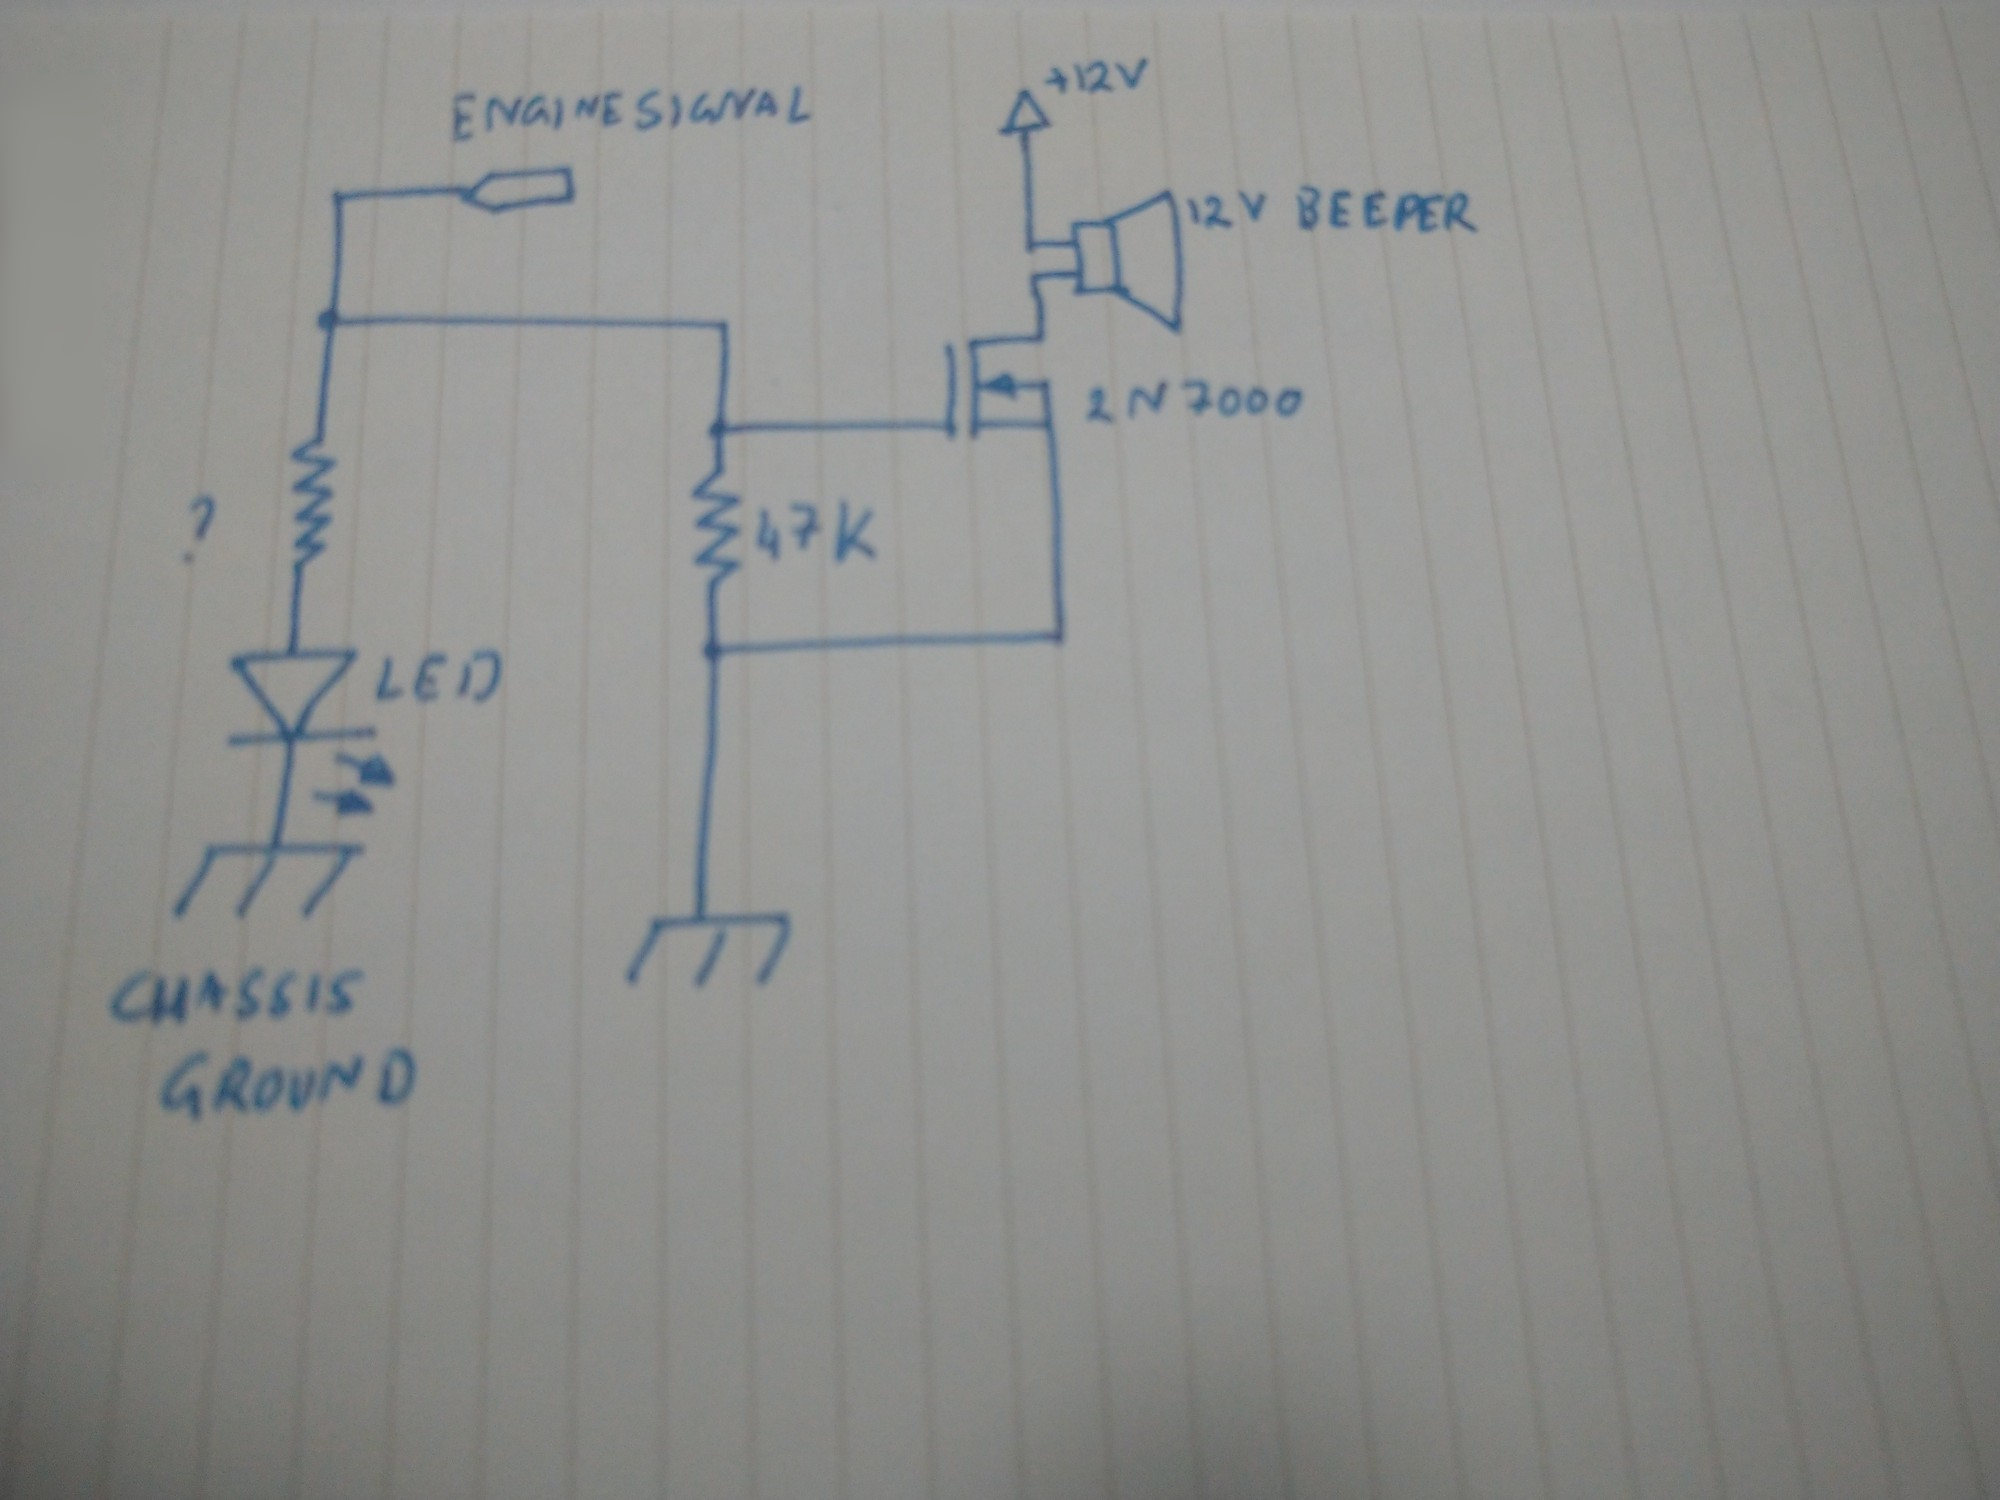diode.light_emitting: (216, 646, 398, 822)
gnd: (169, 837, 375, 923), (620, 908, 795, 993)
junction: (315, 306, 343, 339), (699, 633, 728, 666), (1046, 626, 1076, 654), (706, 419, 732, 447), (713, 314, 739, 337), (1020, 232, 1043, 255), (331, 184, 351, 206), (1027, 271, 1046, 291)
resistor: (688, 466, 750, 589), (285, 433, 335, 570)
speaker: (1066, 183, 1191, 340)
terminal: (460, 165, 581, 219), (994, 87, 1057, 140)
text: (449, 82, 816, 147), (154, 1046, 422, 1128), (106, 964, 365, 1030), (1080, 377, 1309, 430), (1294, 183, 1487, 239), (754, 496, 880, 569), (373, 644, 507, 709), (1043, 54, 1153, 98), (1184, 184, 1269, 235), (176, 492, 217, 566)
transistor: (939, 329, 1061, 444)
